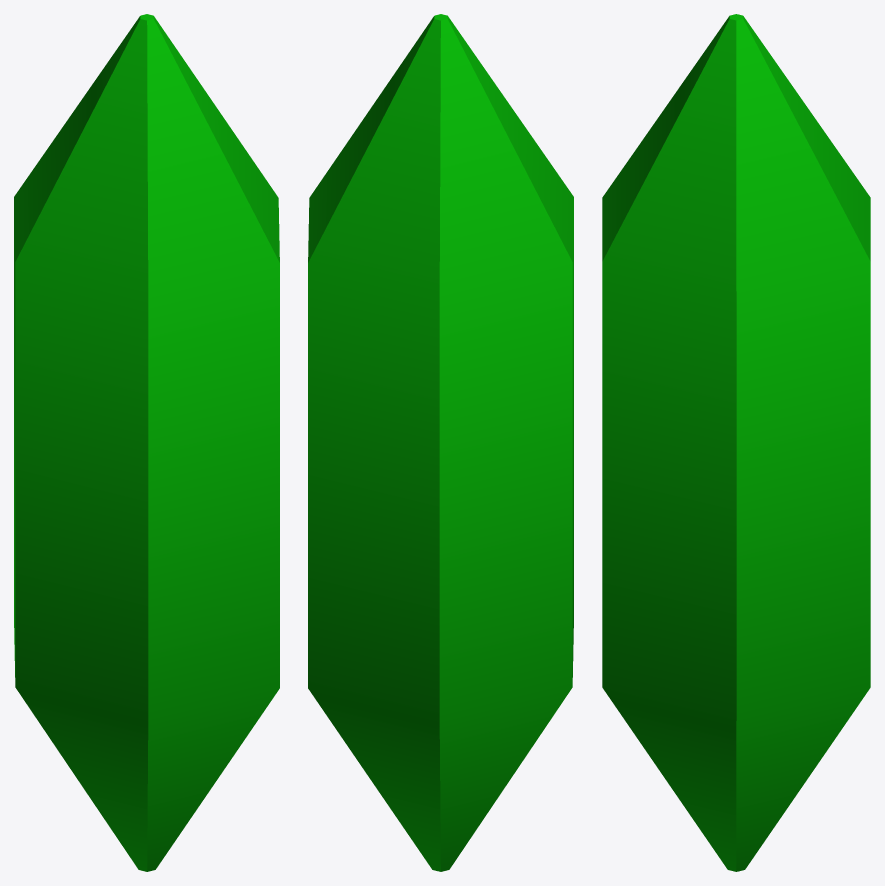
The model's file is earthcrystal.obj.
The picture shows the model from 3 angles, left to right: view 1: azimuth 30°, elevation 25°; view 2: azimuth 150°, elevation 25°; view 3: azimuth 270°, elevation 25°; orthographic projection.
Visible parts, largest first — view 1: g0; view 2: g0; view 3: g0.
Boxes of the visible parts, bbox=[...] form: g0: bbox=[14, 14, 279, 871]; g0: bbox=[308, 14, 573, 871]; g0: bbox=[602, 14, 870, 871].
Bounding box in the file's own units: 0.2592 × 0.8 × 0.2289.
